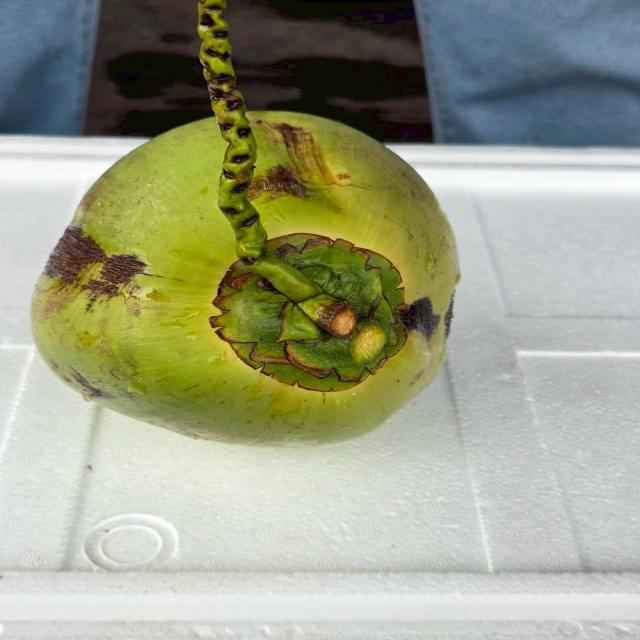coco_2.0: (177, 215, 460, 407)
